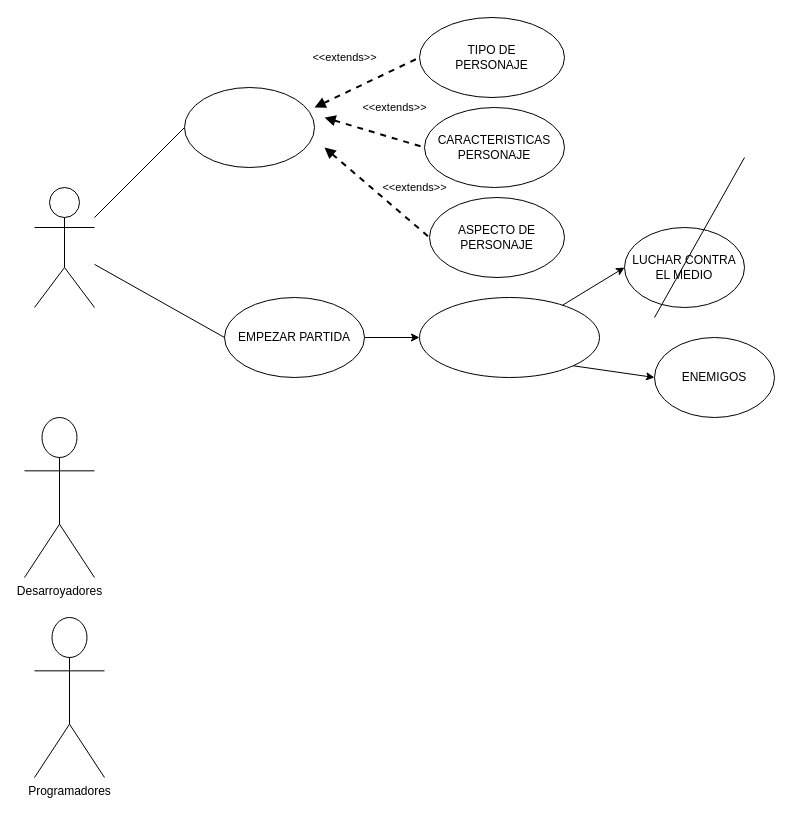
This 792x816 diagram has some shape labels left out. Each missing label, with the centre of its shape:
ENFRENTAR PROBLEMA: (x=509, y=337)
Jugador 1: (x=64, y=247)
SELECCIONA PERSONAJE: (x=249, y=127)
